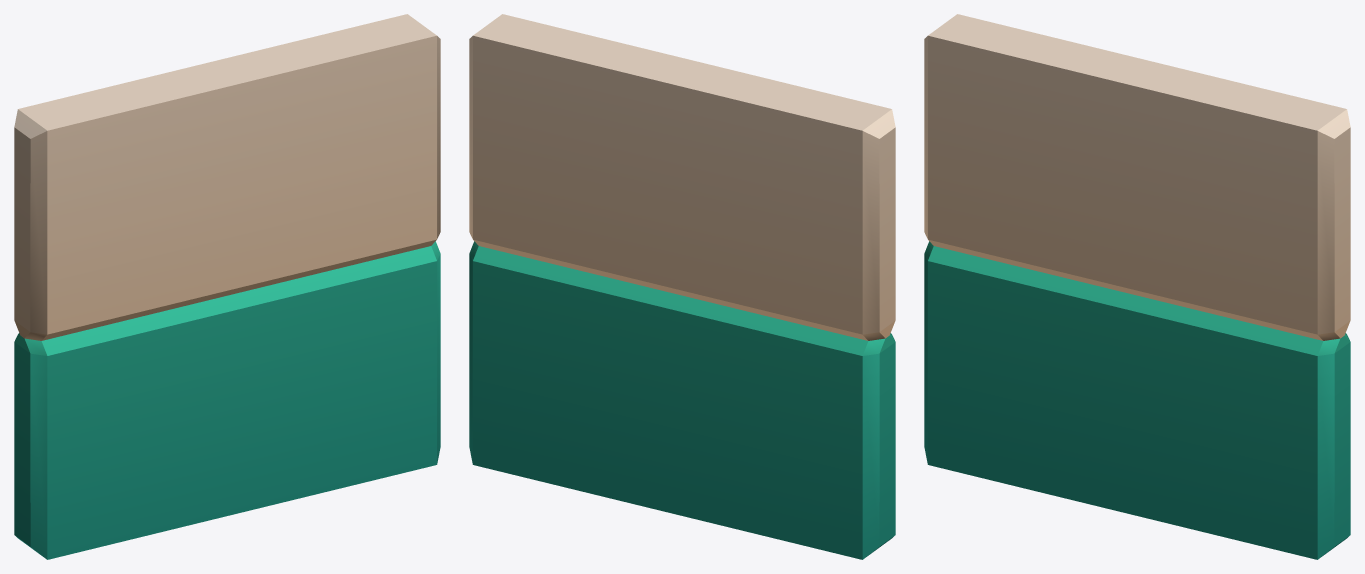
Rendered from wall.glb.
3 renders of one model, left to right at view 1: azimuth 30°, elevation 25°; view 2: azimuth 150°, elevation 25°; view 3: azimuth 330°, elevation 25°, orthographic.
Parts seen in each view (by area): view 1: wall_Cube.148; view 2: wall_Cube.148; view 3: wall_Cube.148.
Part boxes in pixels (x1,y1,x2,y2): wall_Cube.148: (14,14,440,559); wall_Cube.148: (469,14,895,559); wall_Cube.148: (924,14,1350,559).
Size of the model in its own units: 4 by 4 by 0.5.
Materials: 1 (1 with a texture image).
